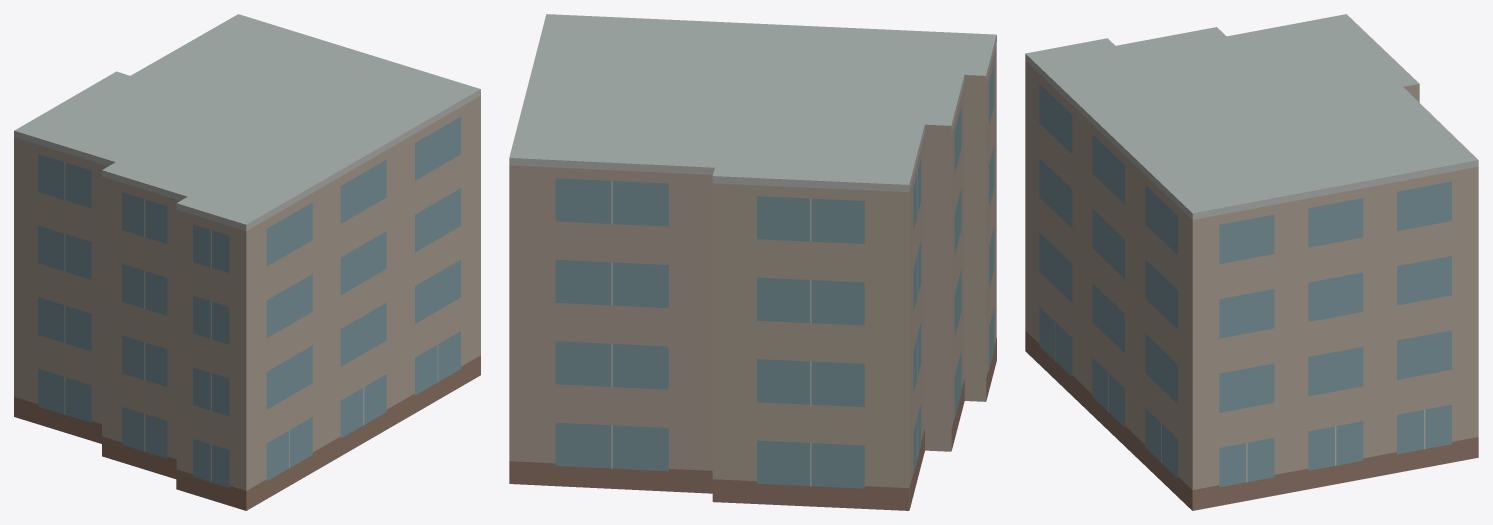
The model's file is survey-upis-32628096.glb.
3 renders of one model, left to right at view 1: azimuth 30°, elevation 25°; view 2: azimuth 150°, elevation 25°; view 3: azimuth 270°, elevation 25°, orthographic. The views are drawn at different scales.
Parts seen in each view (by area): view 1: survey-upis-32628096.tmp; view 2: survey-upis-32628096.tmp; view 3: survey-upis-32628096.tmp.
Boxes of the visible parts, left/top/right/bottom form: survey-upis-32628096.tmp: left=14, top=14, right=480, bottom=510; survey-upis-32628096.tmp: left=509, top=14, right=996, bottom=510; survey-upis-32628096.tmp: left=1025, top=14, right=1478, bottom=510.
Bounding box in the file's own units: 15.52 × 10.8 × 14.92.
